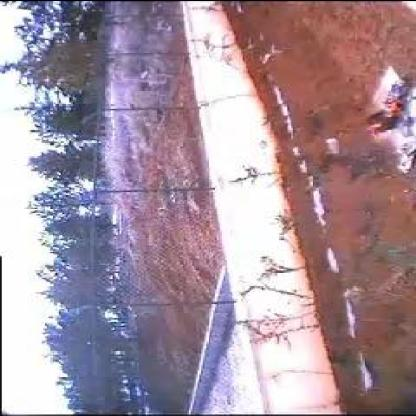-: (346, 146, 380, 166)
foggia-v2-map80-epoch100 - v1 4323: (368, 96, 404, 134)
